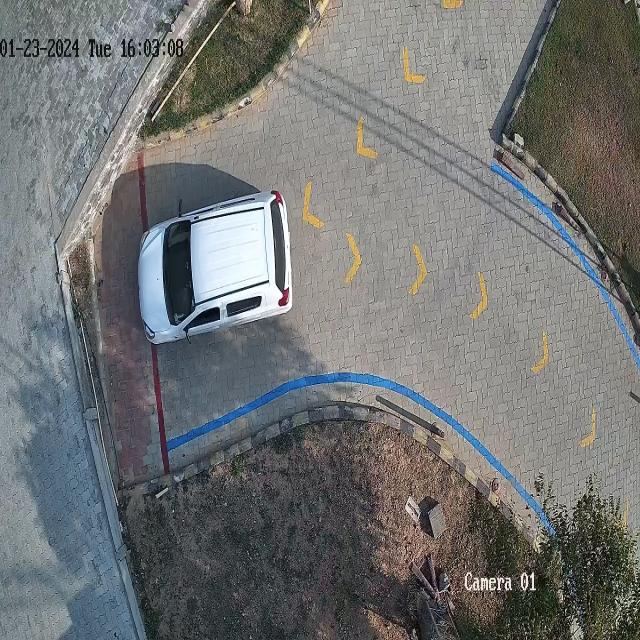car: (138, 191, 292, 344)
